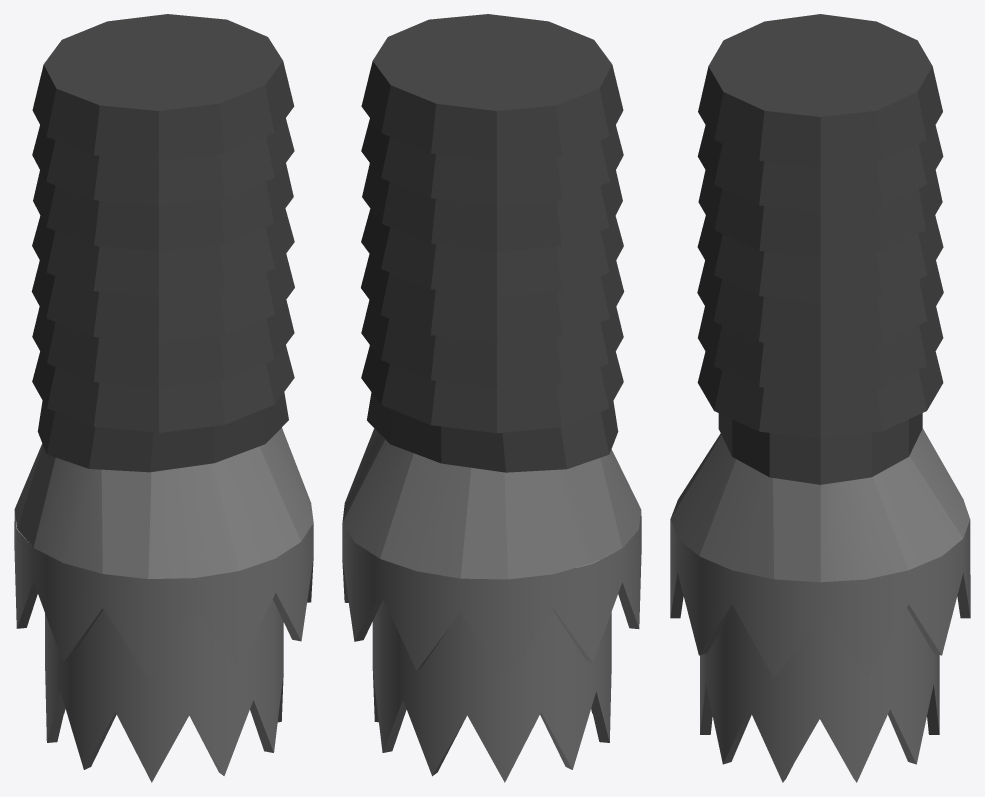
File: Body_2.fbx
The picture shows the model from 3 angles, left to right: view 1: azimuth 30°, elevation 25°; view 2: azimuth 150°, elevation 25°; view 3: azimuth 270°, elevation 25°; orthographic projection.
Parts seen in each view (by area): view 1: Body_2; view 2: Body_2; view 3: Body_2.
Boxes of the visible parts, left/top/right/bottom form: Body_2: left=14, top=14, right=313, bottom=782; Body_2: left=342, top=14, right=641, bottom=782; Body_2: left=670, top=14, right=970, bottom=782.
Size of the model in its own units: 82.97 by 204 by 82.95.
